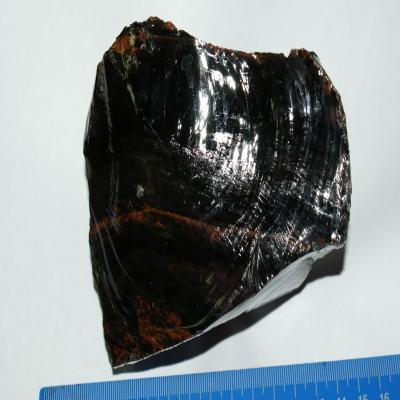mineralogy: (82, 17, 353, 375)
